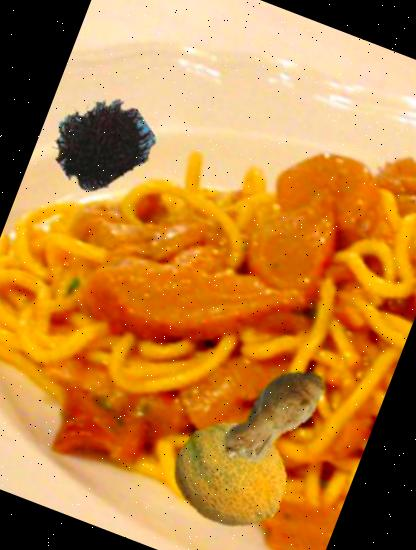Cantaloupe: (158, 401, 307, 550)
Ginger: (190, 334, 354, 498)
Rambutan: (38, 80, 162, 204)
